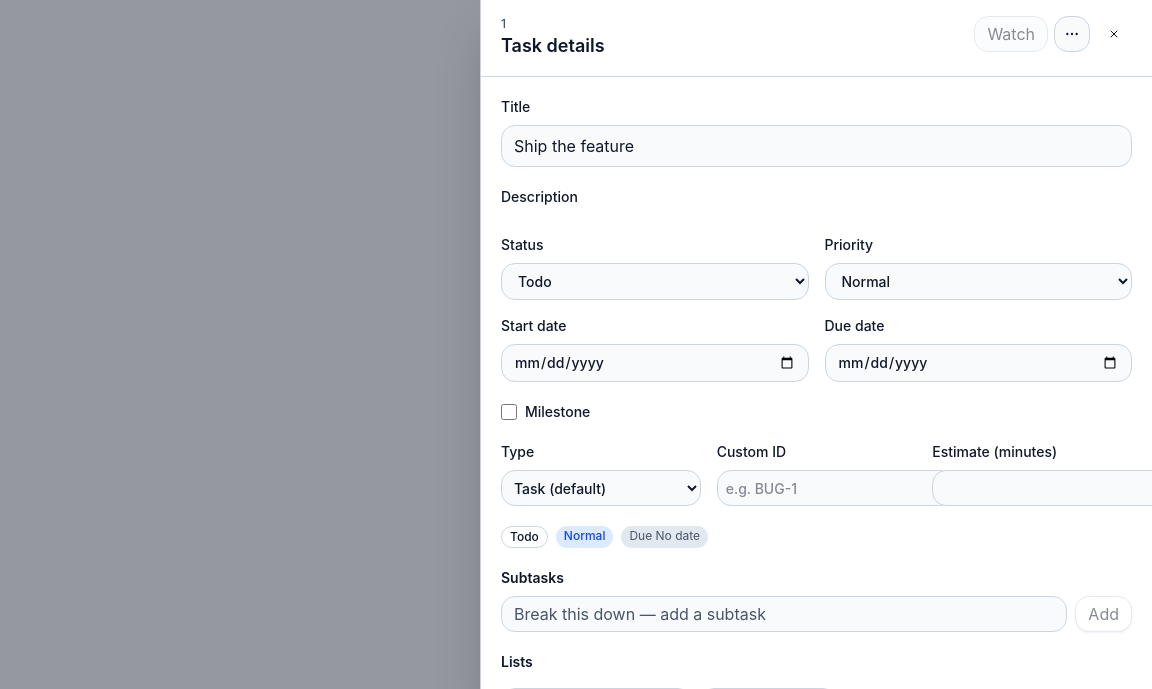
Test case: TaskDetailPanel header actions › offers every secondary action in the overflow menu, and closes it on Escape
Expected: the field showing "Ship the feature" is shown, [501, 125, 1132, 167]
Click the button named "More task actions" at (1072, 34), box [1054, 16, 1090, 52]
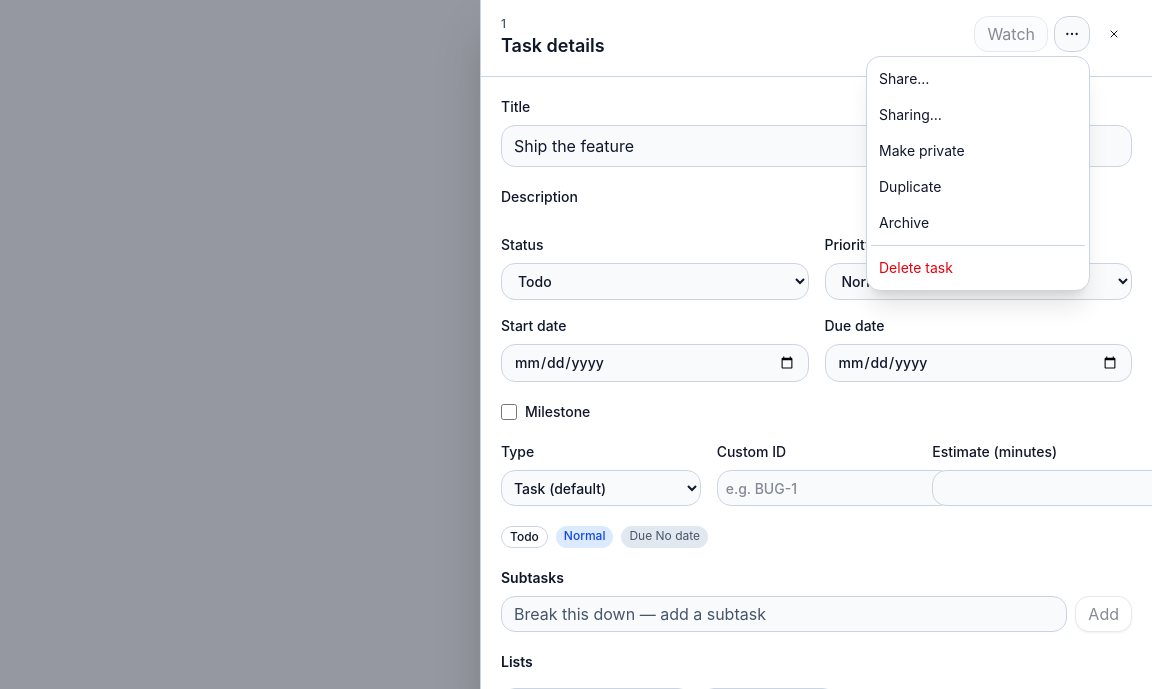
Press Escape
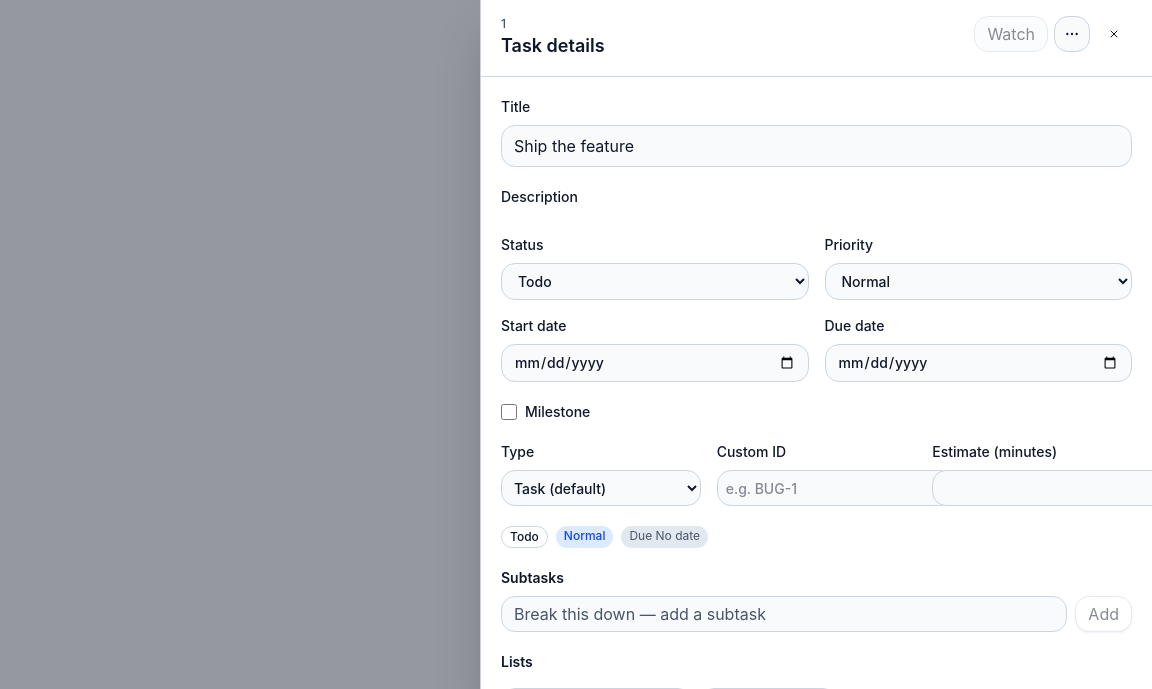
Expected: the menu is gone
